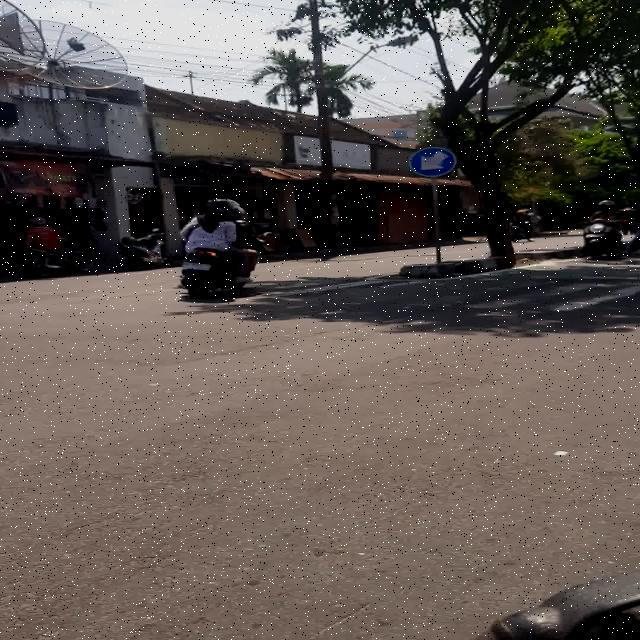Lajur Kiri: (408, 147, 457, 177)
